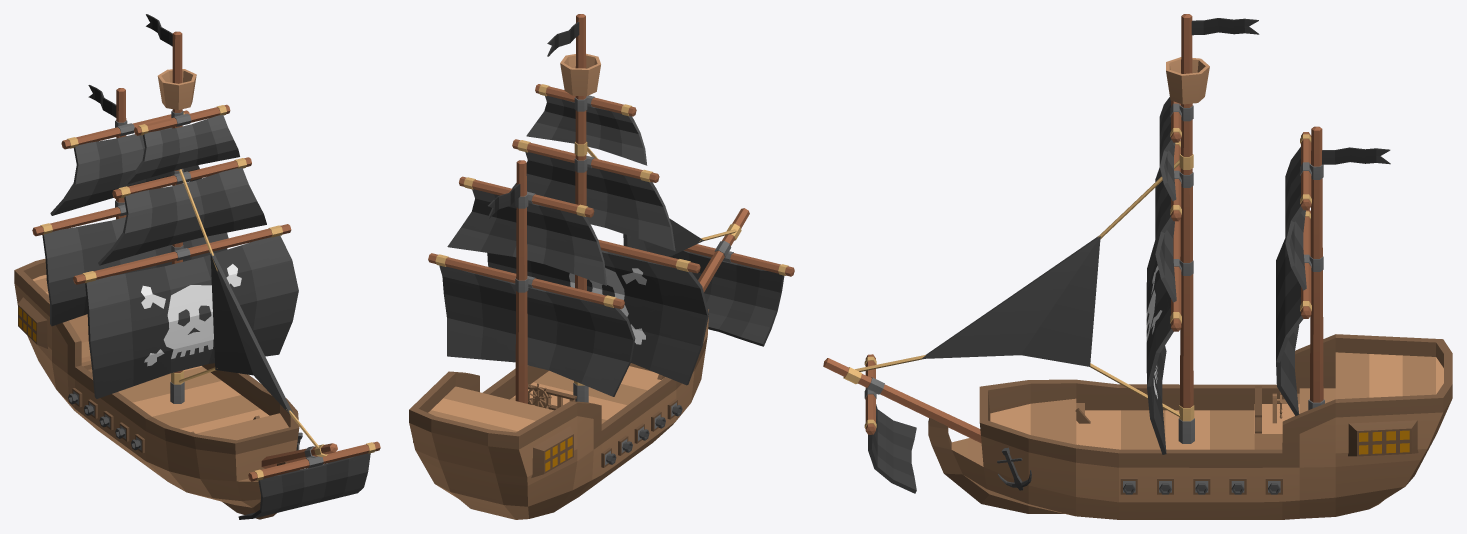
The model's file is pirate-ship-medium.glb.
3 views of the same model, side by side, from view 1: azimuth 30°, elevation 25°; view 2: azimuth 150°, elevation 25°; view 3: azimuth 270°, elevation 25° (orthographic). The views are drawn at different scales.
Visible parts, largest first — view 1: pirate ship medium; view 2: pirate ship medium; view 3: pirate ship medium.
Part boxes in pixels (bbox=[...]): pirate ship medium: bbox=[14, 14, 380, 519]; pirate ship medium: bbox=[409, 14, 794, 519]; pirate ship medium: bbox=[823, 14, 1452, 519].
Size of the model in its own units: 15.89 by 30.13 by 34.74.
Materials: 1 (1 with a texture image).
